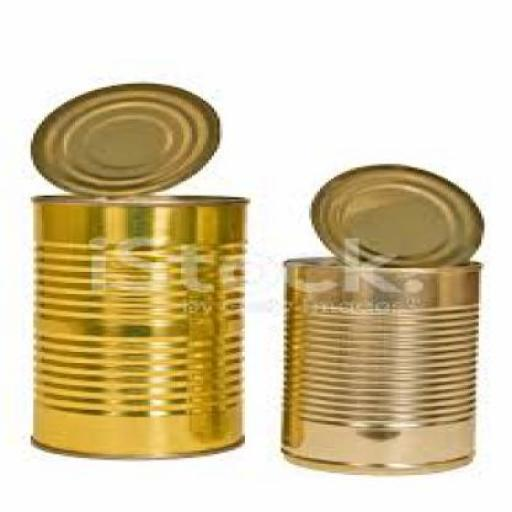metal: (22, 194, 243, 456), (278, 254, 476, 472), (28, 79, 217, 194), (309, 162, 481, 266)
